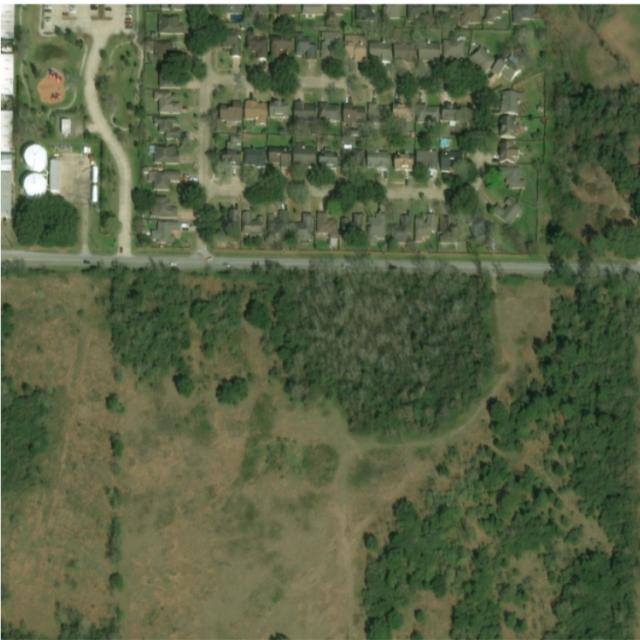old_road: (189, 66, 217, 198), (196, 241, 206, 250)
road: (83, 34, 133, 258), (3, 250, 349, 271), (484, 260, 548, 275), (366, 257, 418, 270), (595, 261, 639, 274), (447, 259, 476, 273)
